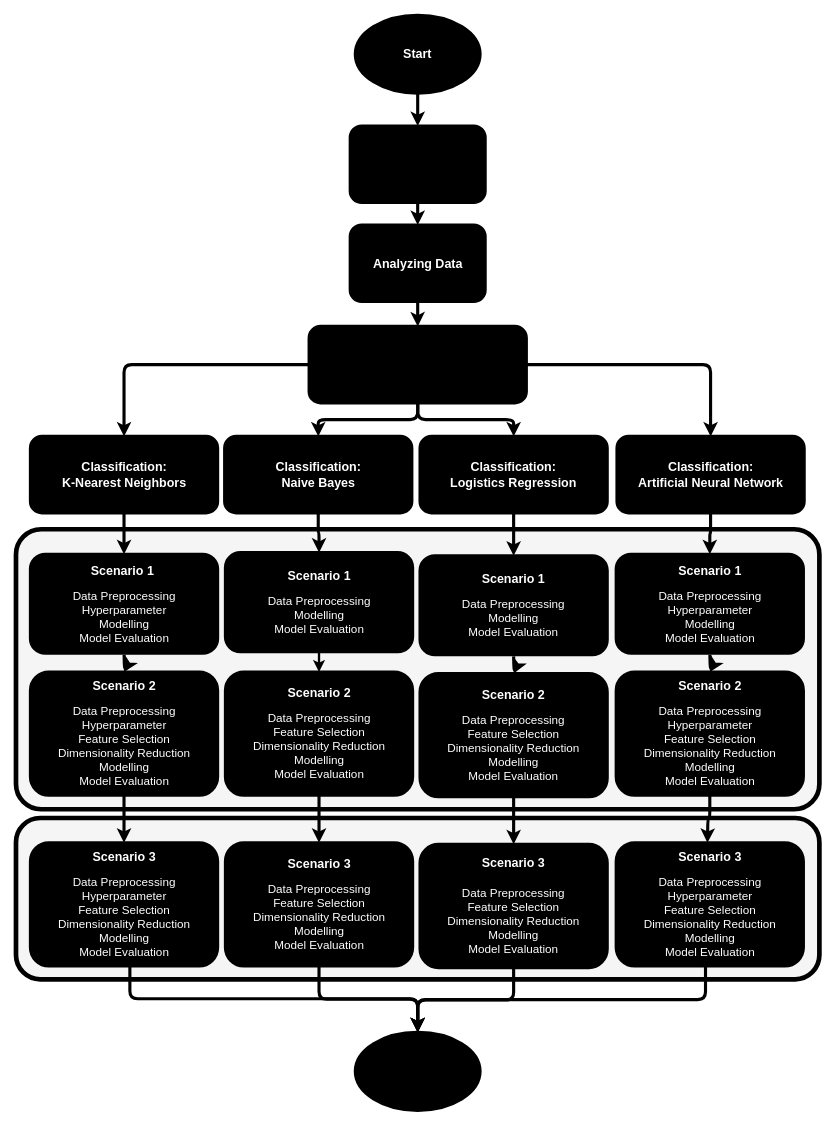
The diagram is 835 pixels wide and 1125 high, and some of its shapes have lost their labels. Each missing label, with the box of its shape:
End: (353, 1030, 481, 1112)
General Preprocessing Data and Resampling Data: (307, 324, 528, 404)
Import Library and Read Dataset: (348, 124, 486, 204)
Original Data: (13, 526, 821, 811)
Resampling Data: (13, 815, 821, 981)
